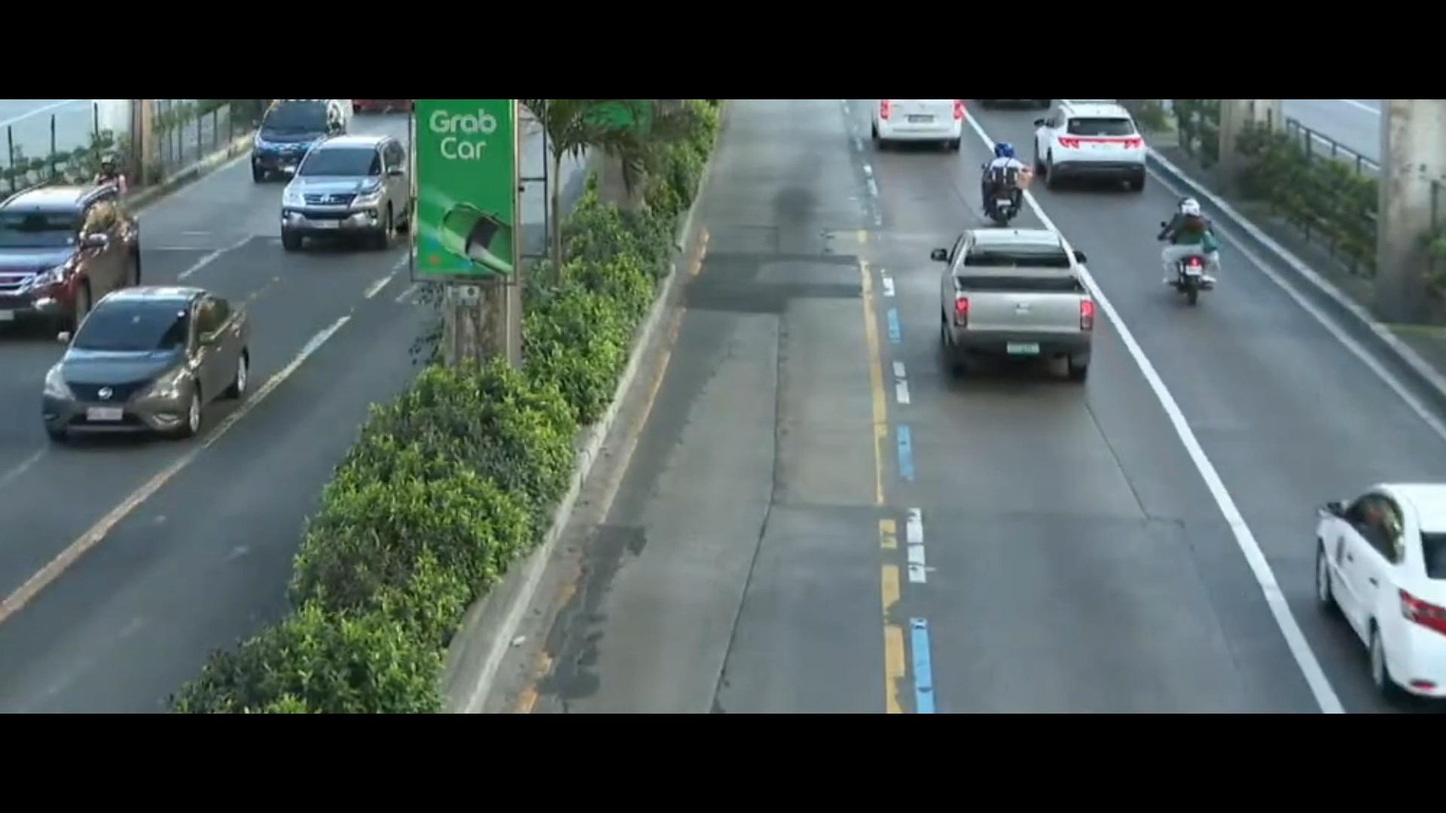Motorcycle: (1132, 189, 1256, 326), (973, 126, 1035, 236)
Pickup: (928, 216, 1110, 411)
SUV: (0, 171, 146, 332), (269, 131, 417, 264), (1035, 98, 1153, 196), (247, 88, 352, 180)
Sedan: (24, 284, 264, 463), (1286, 470, 1446, 708)
